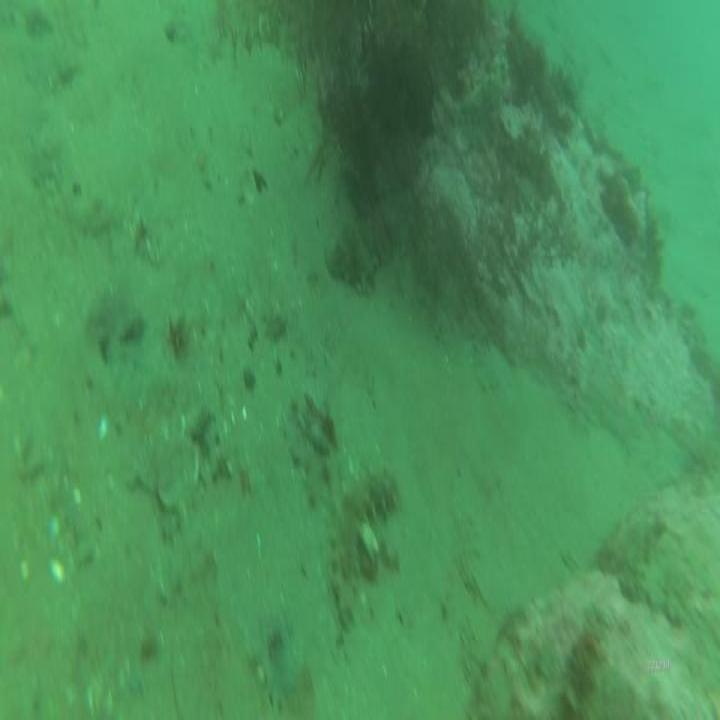holothurian: (328, 452, 400, 624)
